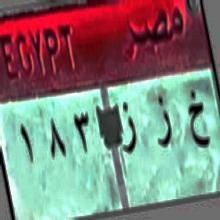1: (18, 118, 36, 177)
3: (72, 107, 92, 165)
8: (47, 116, 67, 175)
khaa: (186, 86, 211, 154)
zay: (118, 99, 140, 162), (154, 92, 174, 161)
